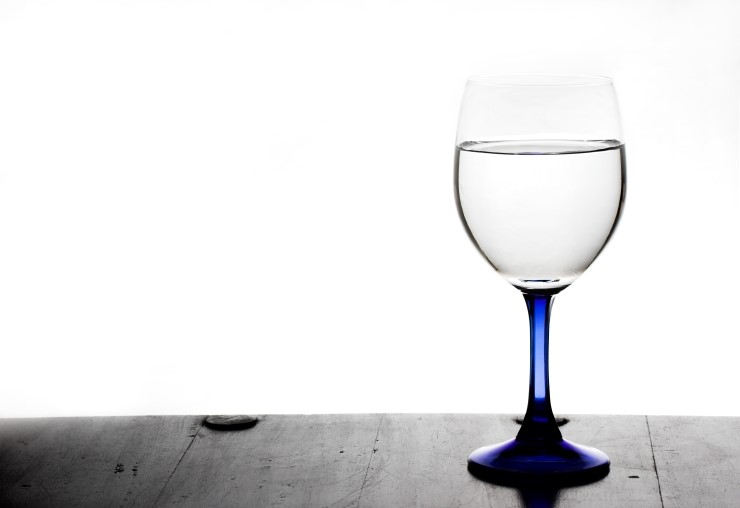glass of water: (451, 63, 637, 493)
